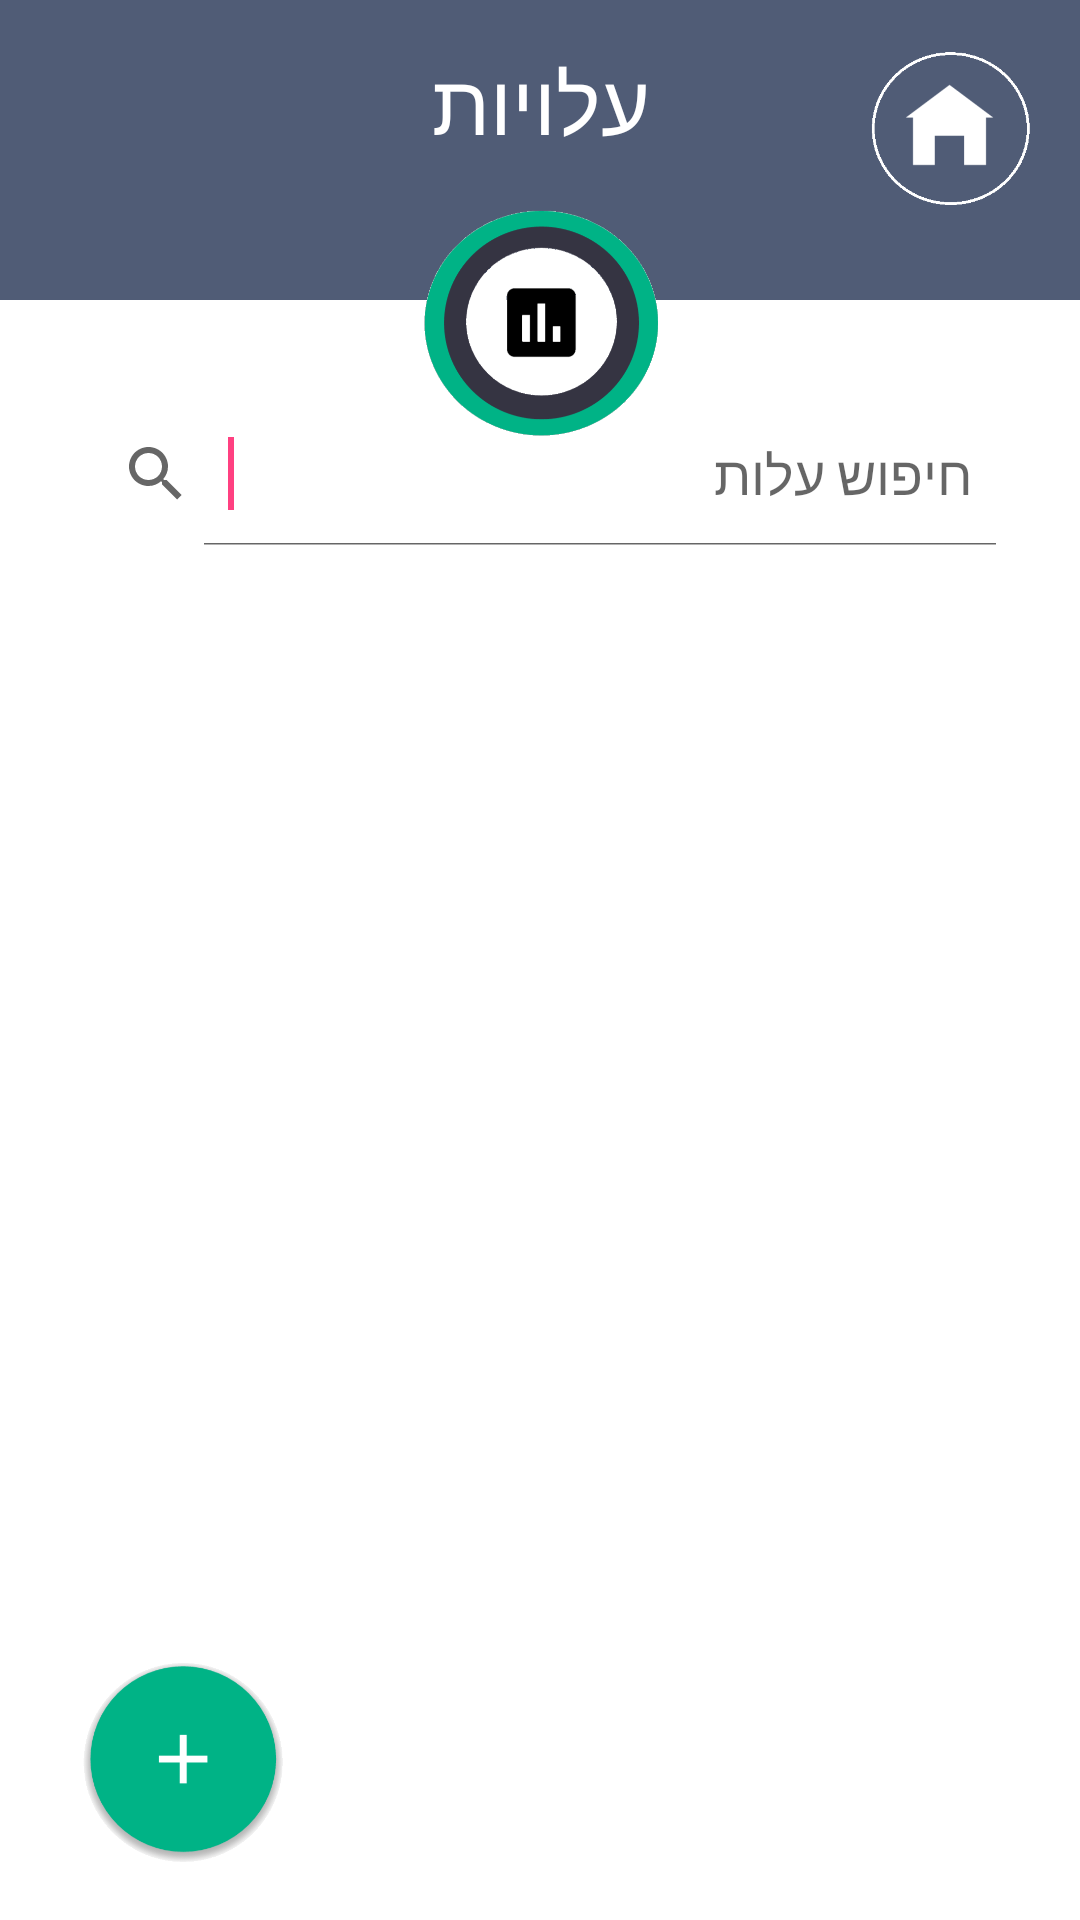

Screen size 1080 x 1920. Icon name, then its box in pixels as [x1,y1,x2,y2]:
add: [85,1665,281,1860]
home circle: [872,52,1030,205]
